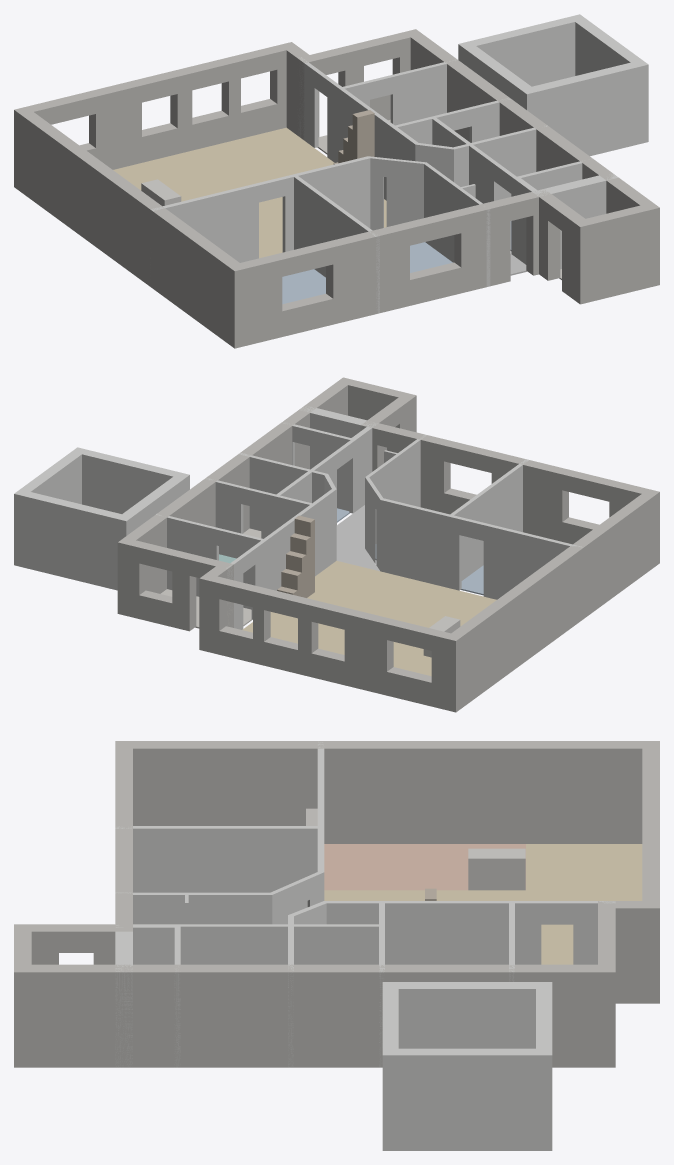
File: PROP_1063.glb
3 renders of one model, top to bottom at view 1: azimuth 30°, elevation 25°; view 2: azimuth 150°, elevation 25°; view 3: azimuth 270°, elevation 25°, orthographic. The views are drawn at different scales.
Visible parts, largest first — view 1: L0_wall_F0_W6, L0_wall_F0_W7, L0_wall_F0_W0, L0_floor_F0_R2_0, L0_wall_F0_W11, L0_wall_F0_W23, L0_wall_F0_W3, L0_wall_F0_W4, L0_wall_F0_W14, L0_wall_F0_W21, L0_wall_F0_W17, L0_wall_F0_W5 (+18 smaller); view 2: L0_wall_F0_W0, L0_wall_F0_W7, L0_wall_F0_W6, L0_wall_F0_W11, L0_floor_F0_R2_0, L0_wall_F0_W21, L0_wall_F0_W3, L0_wall_F0_W2, L0_wall_F0_W14, L0_wall_F0_W23, L0_wall_F0_W25, L0_wall_F0_W18 (+15 smaller); view 3: L0_wall_F0_W7, L0_wall_F0_W3, L0_wall_F0_W22, L0_wall_F0_W14, L0_wall_F0_W25, L0_floor_F0_R2_0, L0_wall_F0_W20, L0_wall_F0_W19, L0_floor_F0_R3_0, L0_wall_F0_W9, L0_wall_F0_W1, L0_wall_F0_W6 (+13 smaller).
Boxes of the visible parts, <box> form: L0_wall_F0_W6: <box>234,189,543,348</box>; L0_wall_F0_W7: <box>14,109,239,348</box>; L0_wall_F0_W0: <box>15,42,291,169</box>; L0_floor_F0_R2_0: <box>113,127,386,258</box>; L0_wall_F0_W11: <box>150,156,370,264</box>; L0_wall_F0_W23: <box>527,62,648,156</box>; L0_wall_F0_W3: <box>410,29,659,213</box>; L0_wall_F0_W4: <box>580,205,659,304</box>; L0_wall_F0_W14: <box>297,57,418,200</box>; L0_wall_F0_W21: <box>459,14,579,86</box>; L0_wall_F0_W17: <box>338,59,457,125</box>; L0_wall_F0_W5: <box>539,189,584,303</box>; L0_wall_F0_W0: <box>199,576,455,712</box>; L0_wall_F0_W7: <box>451,492,659,712</box>; L0_wall_F0_W6: <box>360,423,659,544</box>; L0_wall_F0_W11: <box>380,498,583,599</box>; L0_floor_F0_R2_0: <box>242,560,496,676</box>; L0_wall_F0_W21: <box>14,492,126,590</box>; L0_wall_F0_W3: <box>118,377,347,593</box>; L0_wall_F0_W2: <box>117,540,232,631</box>; L0_wall_F0_W14: <box>226,489,336,629</box>; L0_wall_F0_W23: <box>77,447,189,513</box>; L0_wall_F0_W25: <box>447,459,528,588</box>; L0_wall_F0_W18: <box>205,478,315,576</box>; L0_wall_F0_W7: <box>116,741,659,843</box>; L0_wall_F0_W3: <box>14,964,615,1067</box>; L0_wall_F0_W22: <box>382,1048,552,1150</box>; L0_wall_F0_W14: <box>325,901,615,964</box>; L0_wall_F0_W25: <box>115,826,323,892</box>; L0_floor_F0_R2_0: <box>324,844,642,964</box>; L0_wall_F0_W20: <box>383,982,551,1048</box>; L0_wall_F0_W19: <box>174,924,384,964</box>; L0_floor_F0_R3_0: <box>324,844,525,890</box>; L0_wall_F0_W9: <box>115,892,272,964</box>; L0_wall_F0_W1: <box>601,901,659,1003</box>; L0_wall_F0_W6: <box>115,741,132,931</box>.
Bounding box in the file's own units: 19.07 × 2.8 × 16.56.
